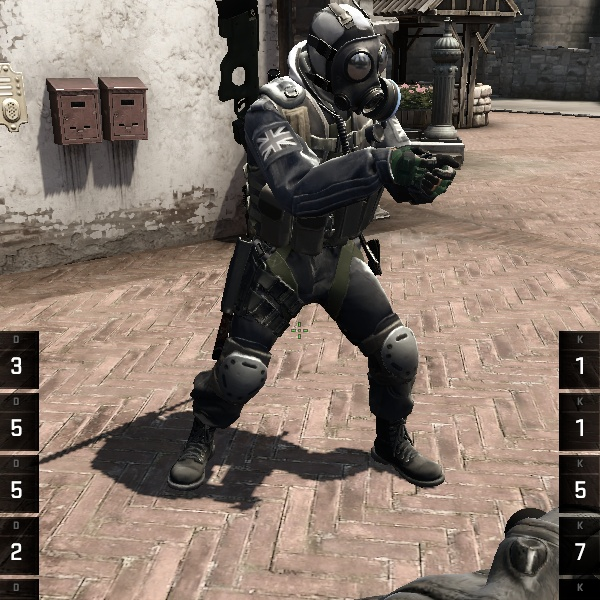ct_body: (188, 3, 506, 501)
